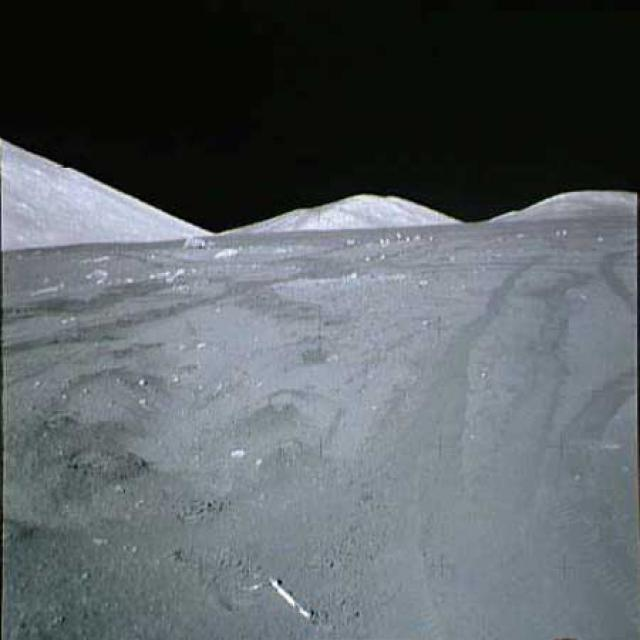rock: (182, 233, 204, 251), (211, 246, 239, 259)
